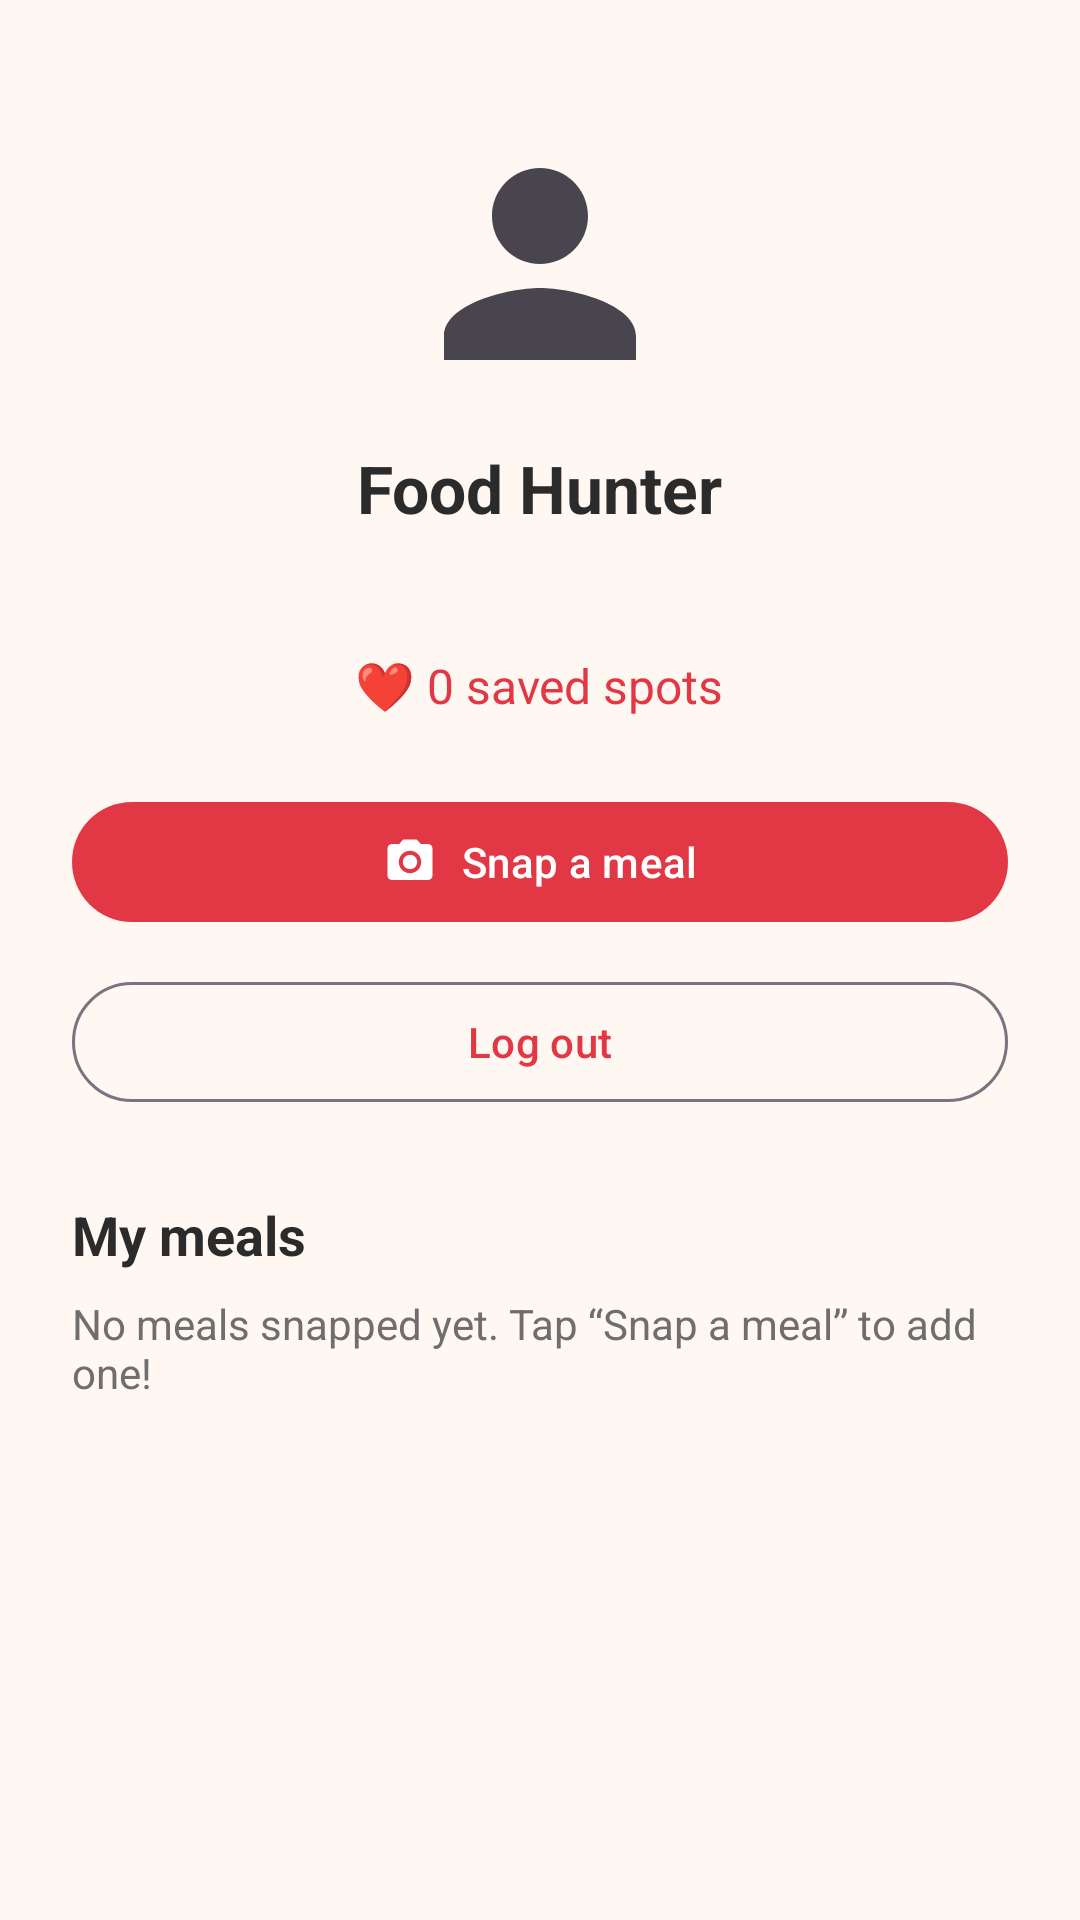

Screen size 1080w x 1920h. Icon name, then its box in pixels as (left=x1, top=y1, right=x2, bottom=y2):
Profile: (left=444, top=168, right=636, bottom=360)
